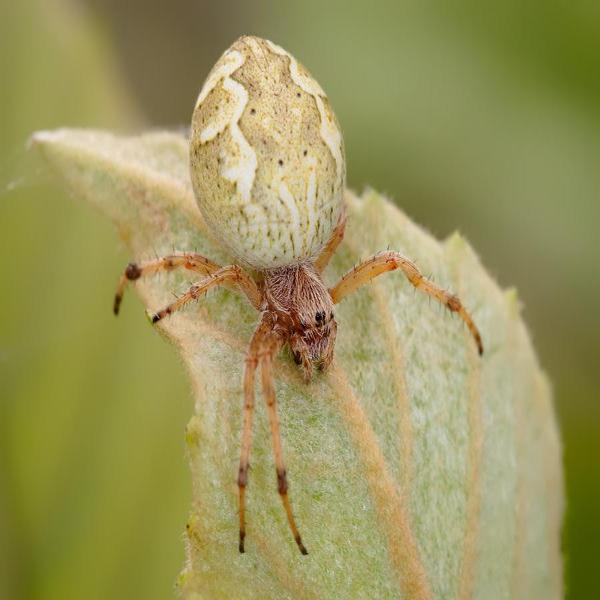Garden Orb Weaver Spider: (127, 34, 475, 539)
